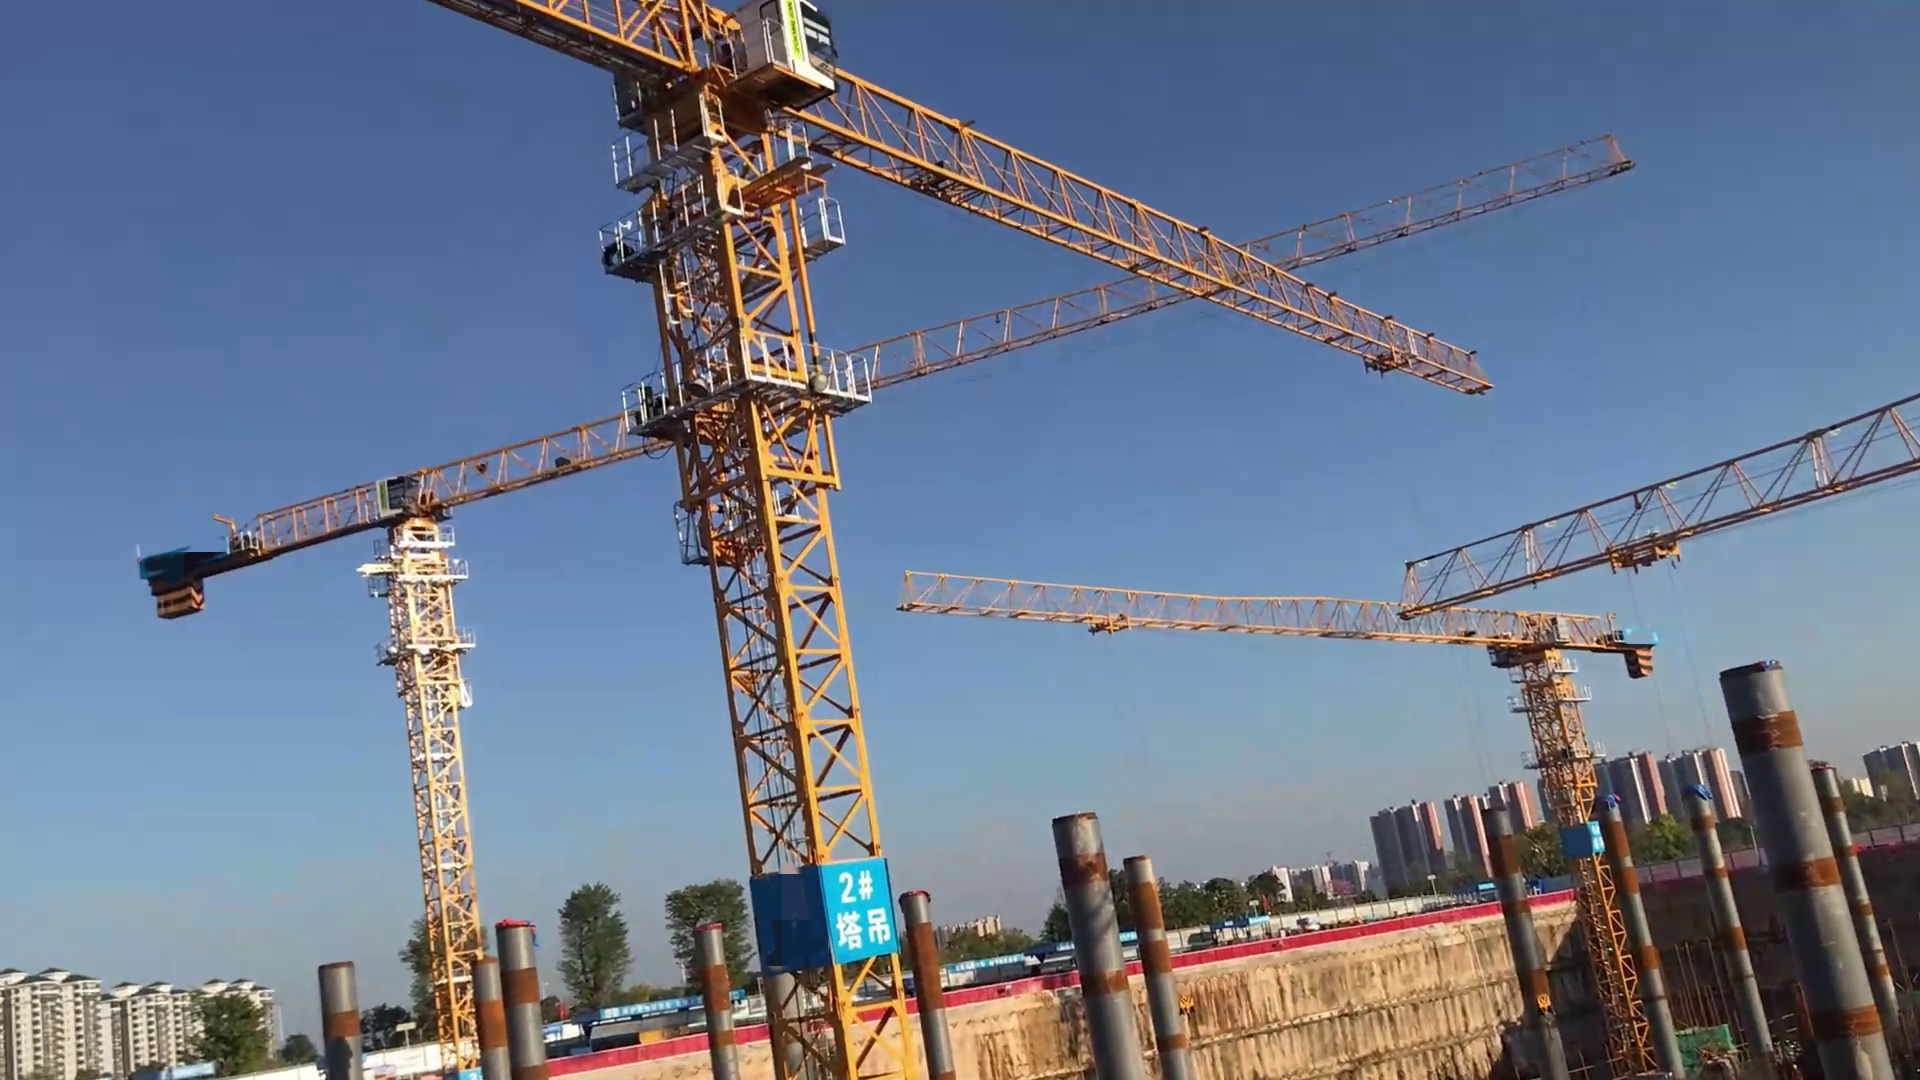hook: (1530, 985, 1565, 1027), (1179, 985, 1201, 1021)
slogan: (837, 849, 897, 963)
